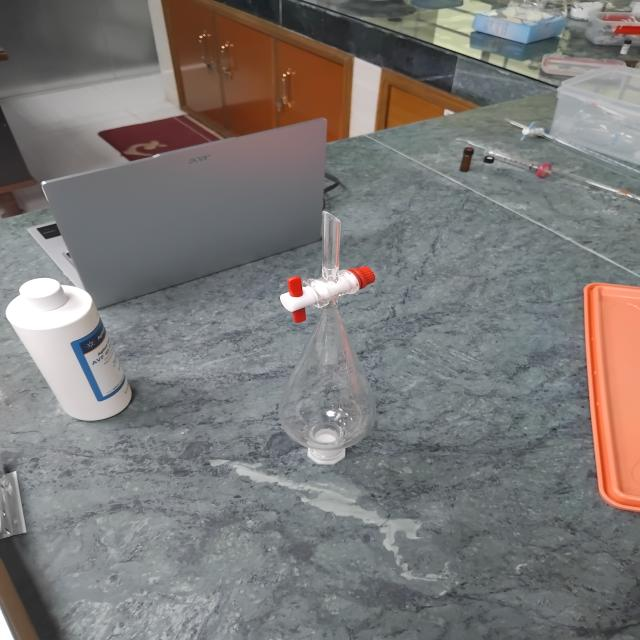Separating_Funnel: (250, 187, 417, 483)
